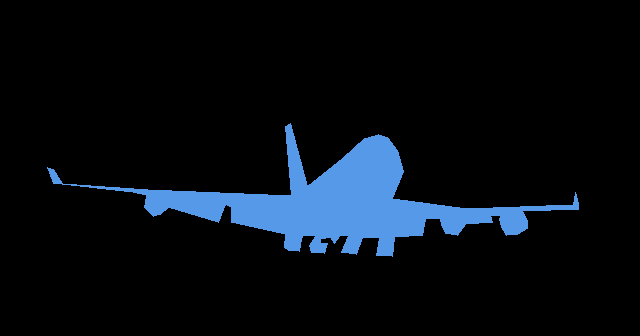Airplane: (47, 123, 579, 256)
